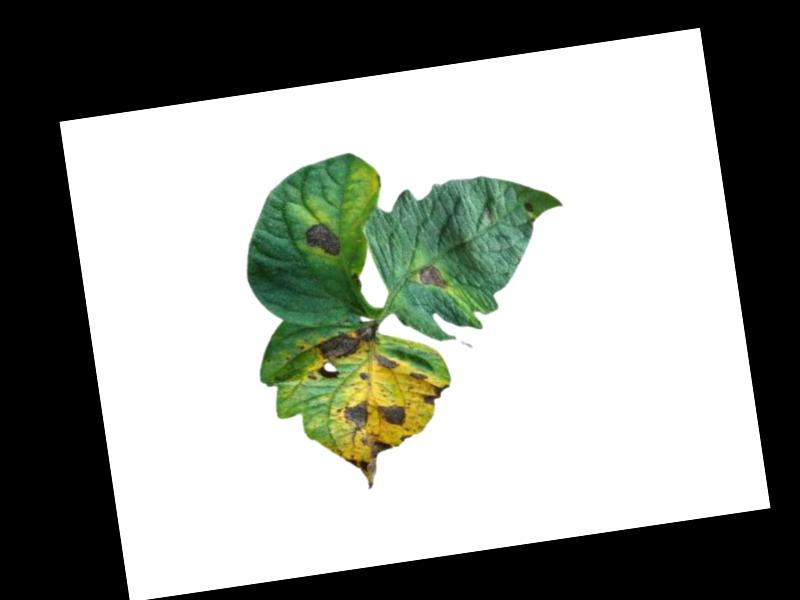Early_blight: (338, 429, 397, 492), (313, 318, 384, 364), (304, 218, 344, 260), (337, 397, 375, 435), (376, 400, 409, 429), (416, 262, 447, 292), (418, 381, 451, 408), (372, 349, 399, 371), (409, 368, 429, 381), (522, 197, 536, 213), (358, 370, 369, 380)
